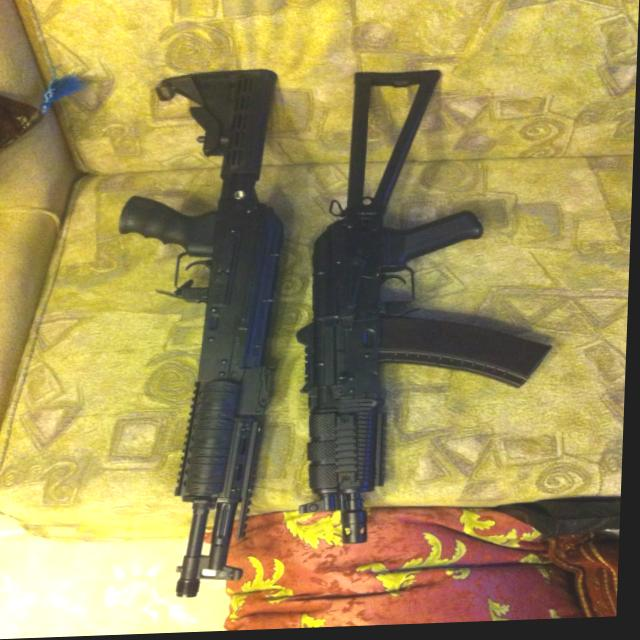firearm: (301, 70, 559, 547), (112, 73, 295, 600)
